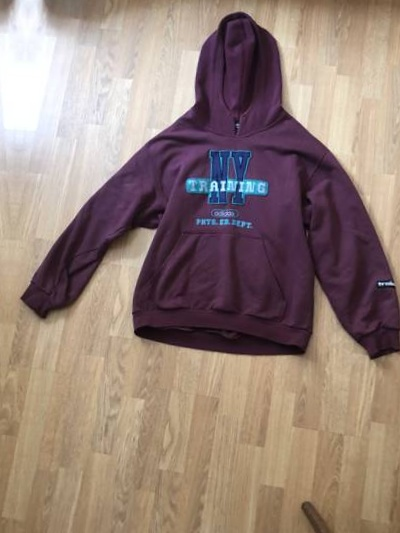Hoodie: (20, 0, 400, 401), (0, 0, 12, 373)
